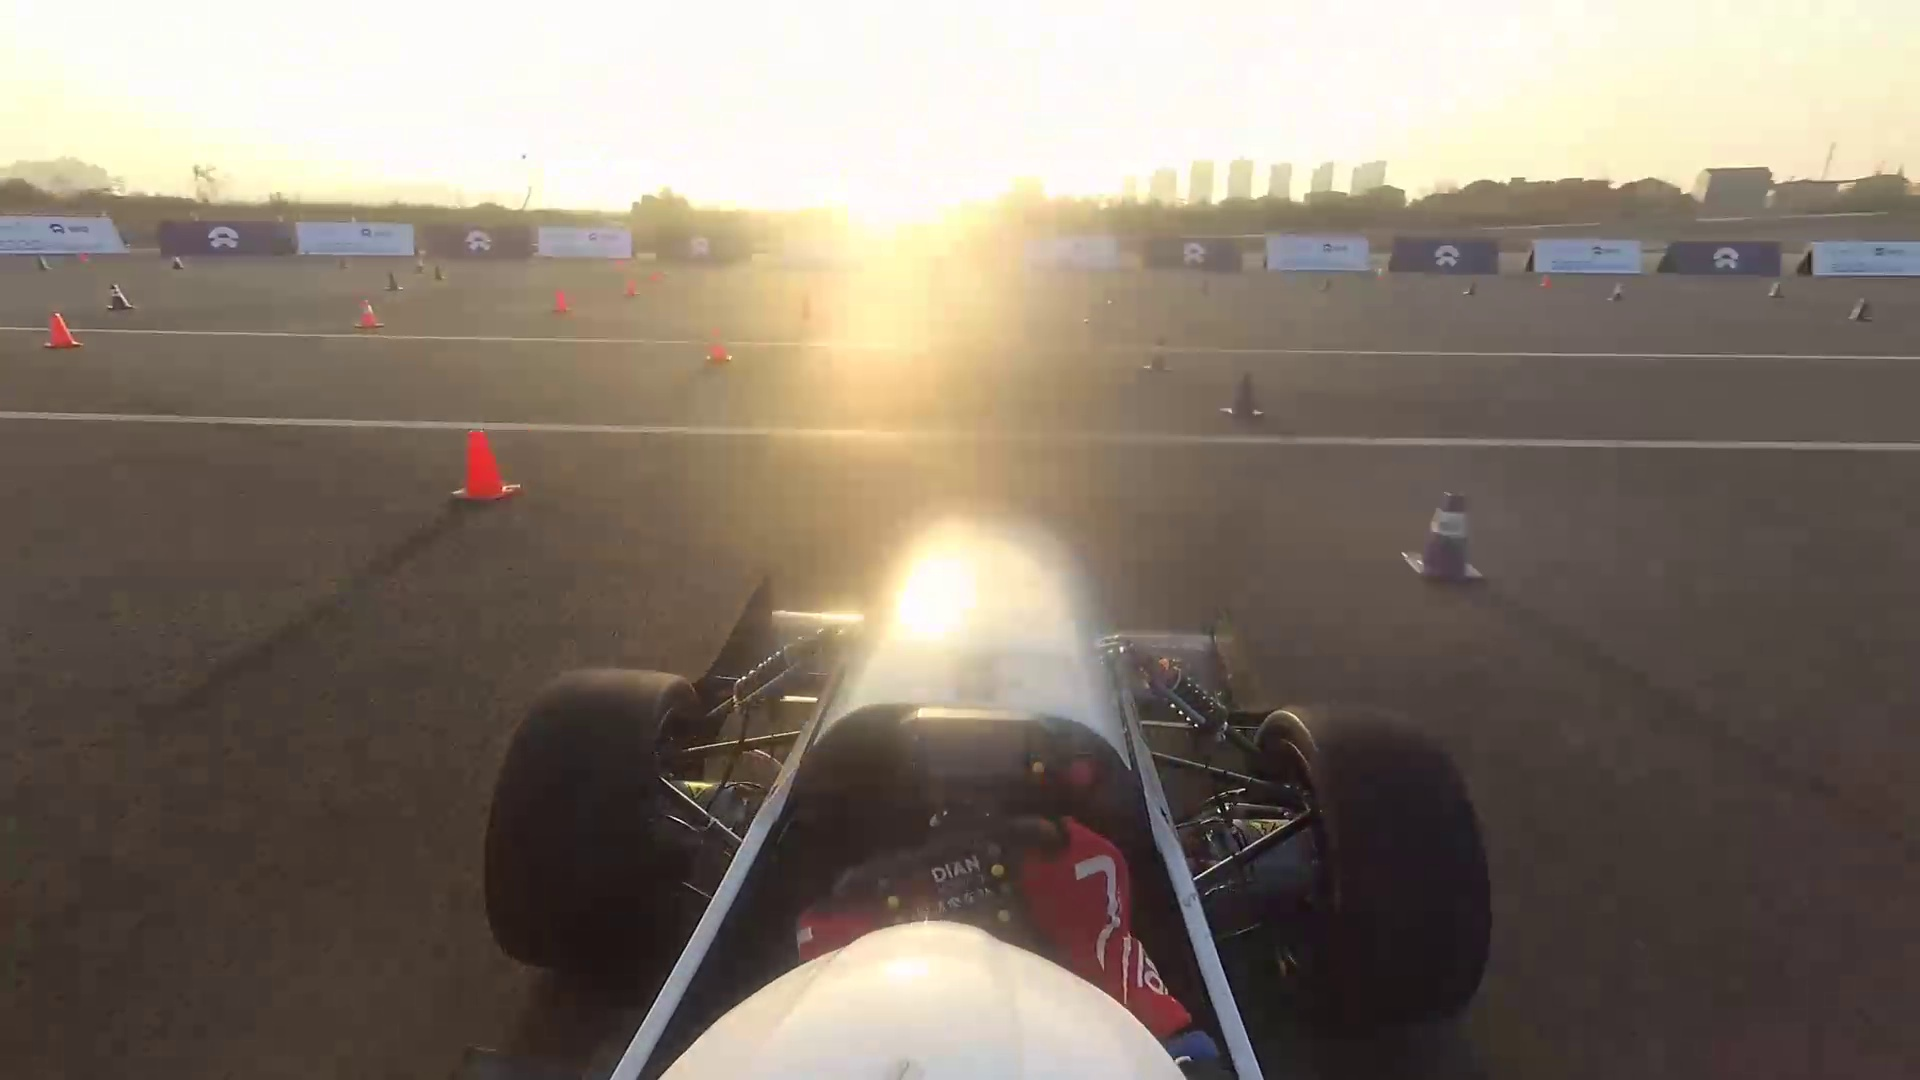blue_cone: (1396, 495, 1482, 589), (1222, 373, 1263, 430), (1139, 339, 1168, 371), (105, 284, 135, 313), (1850, 298, 1871, 320), (384, 272, 400, 291), (171, 256, 189, 272), (36, 255, 50, 272), (1609, 284, 1623, 301), (1771, 282, 1783, 298), (434, 266, 446, 280), (1466, 281, 1476, 295)
red_cone: (448, 435, 524, 506), (45, 313, 79, 351), (705, 330, 735, 364), (357, 298, 378, 328), (549, 290, 574, 314), (624, 280, 640, 297), (1543, 274, 1552, 287)
